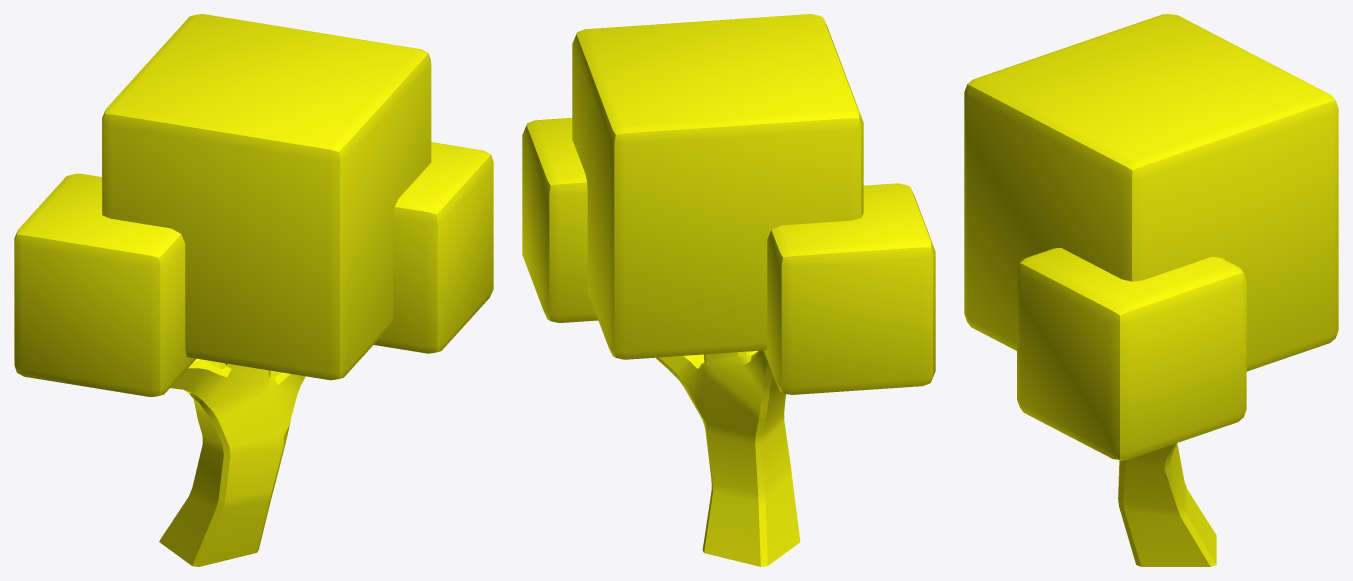
File: Tree_1.glb
3 views of the same model, side by side, from view 1: azimuth 30°, elevation 25°; view 2: azimuth 150°, elevation 25°; view 3: azimuth 270°, elevation 25° (orthographic). The views are drawn at different scales.
Visible parts, largest first — view 1: Tree_1; view 2: Tree_1; view 3: Tree_1.
Boxes of the visible parts, x1,y1,x2,y2 form: Tree_1: (14,14,493,566); Tree_1: (522,14,935,566); Tree_1: (964,14,1338,566).
Size of the model in its own units: 6.11 by 6.08 by 4.24.
Materials: 1 (1 with a texture image).
